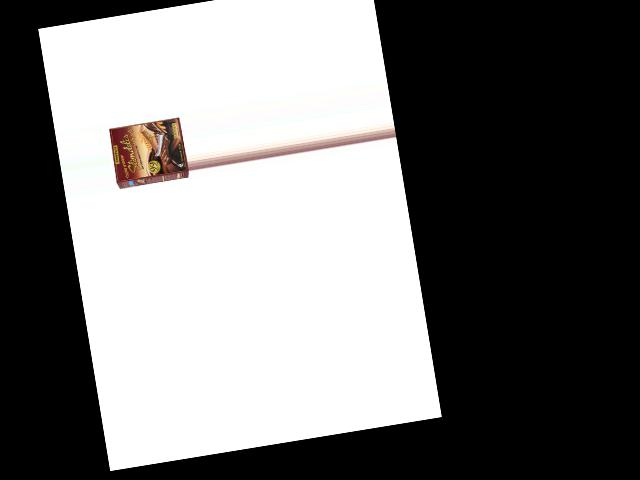chocolate: (106, 110, 190, 193)
